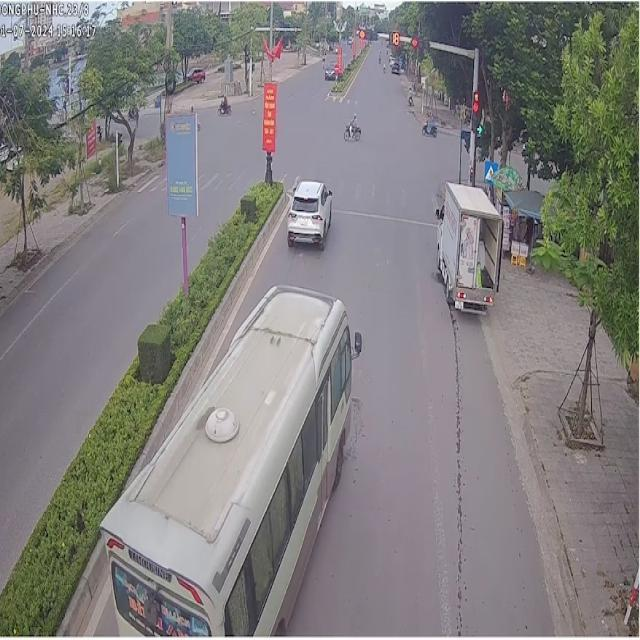car: (99, 283, 359, 636), (434, 180, 498, 309), (284, 180, 329, 249)
red_light: (469, 89, 476, 132), (357, 26, 374, 39)
stop_line: (287, 202, 453, 228)
yellow_light: (382, 31, 387, 36)
